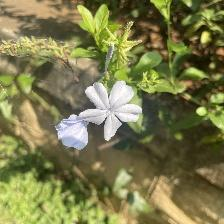chitrak: (86, 82, 144, 140)
